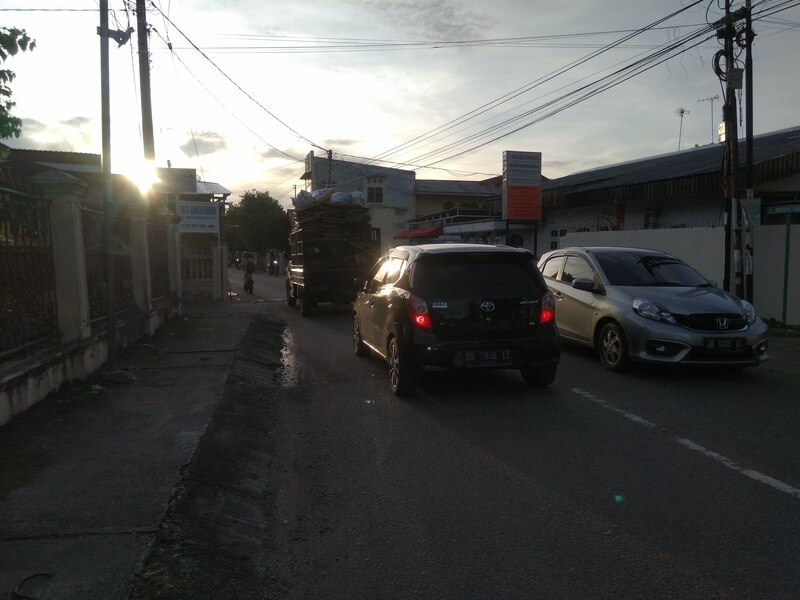bike: (240, 260, 258, 297)
car: (535, 237, 776, 382), (350, 239, 561, 402), (280, 225, 382, 322)
